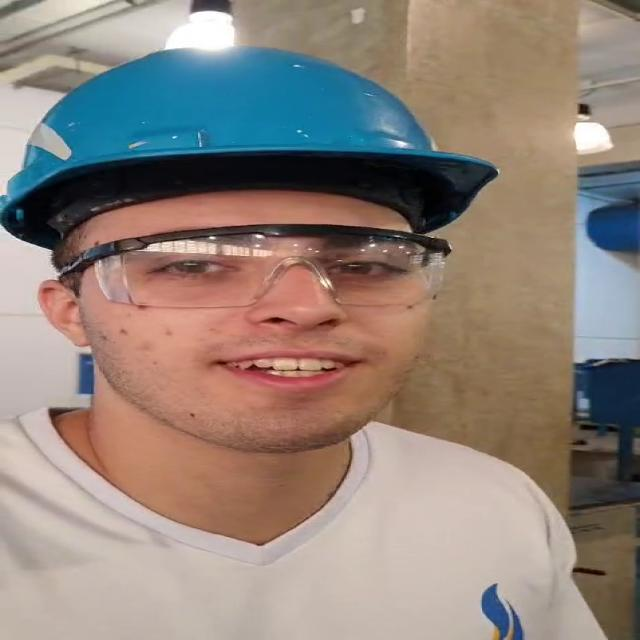oculos-epi: (70, 224, 447, 309), (51, 263, 81, 281)
